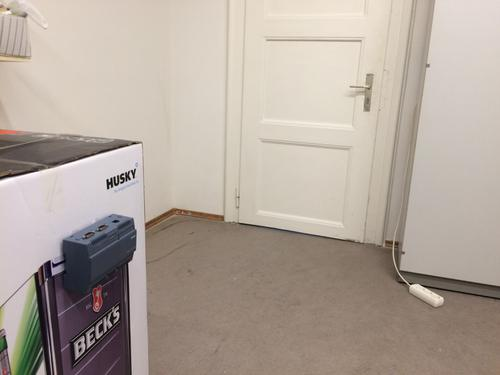iot2000: (61, 212, 137, 296)
